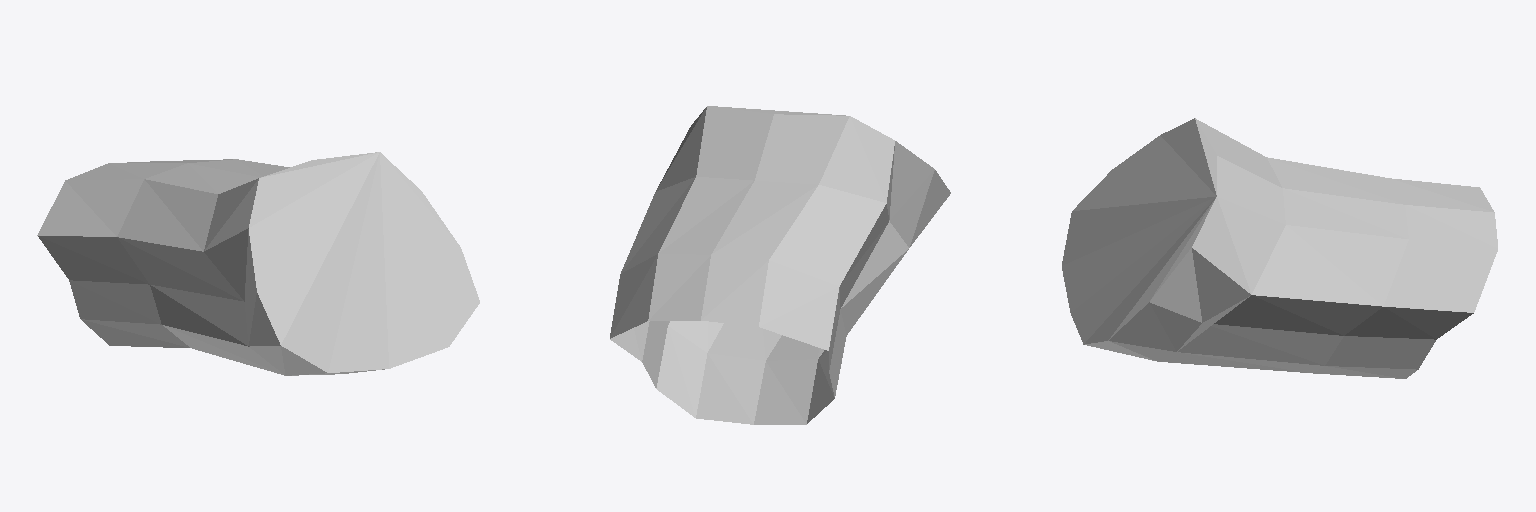
File: head2.obj
The picture shows the model from 3 angles: view 1: azimuth 30°, elevation 25°; view 2: azimuth 150°, elevation 25°; view 3: azimuth 270°, elevation 25°; orthographic projection.
Parts seen in each view (by area): view 1: head; view 2: head; view 3: head.
Boxes of the visible parts, <box> form: head: <box>37,152,479,375</box>; head: <box>610,106,950,424</box>; head: <box>1062,118,1497,378</box>.
Bounding box in the file's own units: 13.99 × 11.36 × 18.94.